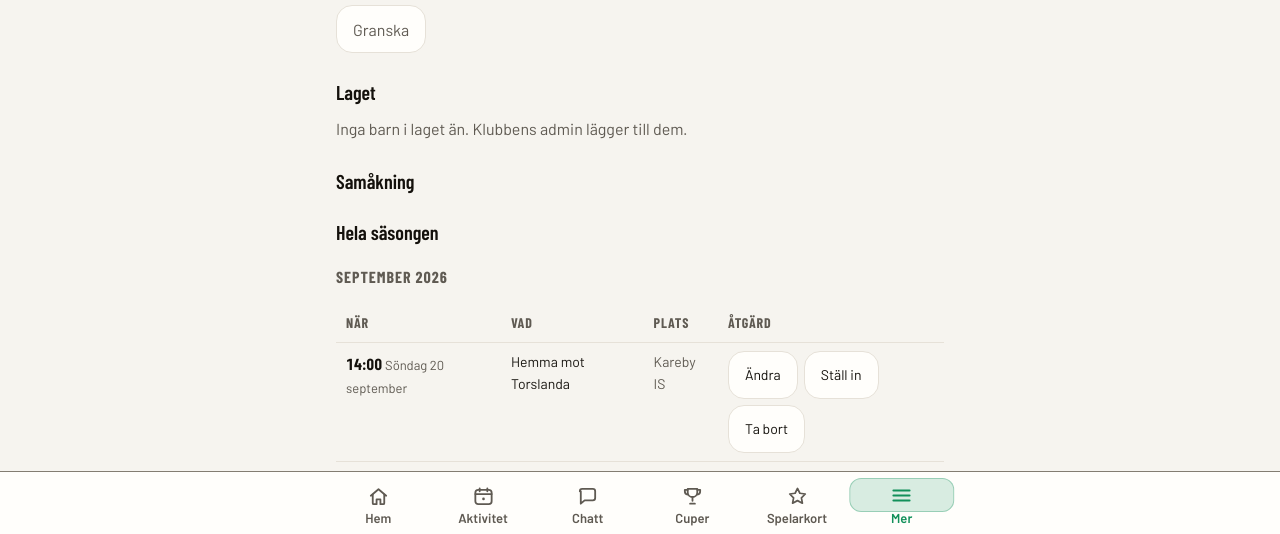
Test case: fel vid ändring visas i stället för att sväljas (#393) › notisen är en textruta med en teckenräknare som uppdateras (#609)
The image size is (1280, 534).
(page scrolled)
Click the button named "Ändra Hemma mot Torslanda". click: (763, 375)
box: [728,351,798,399]
(page scrolled)
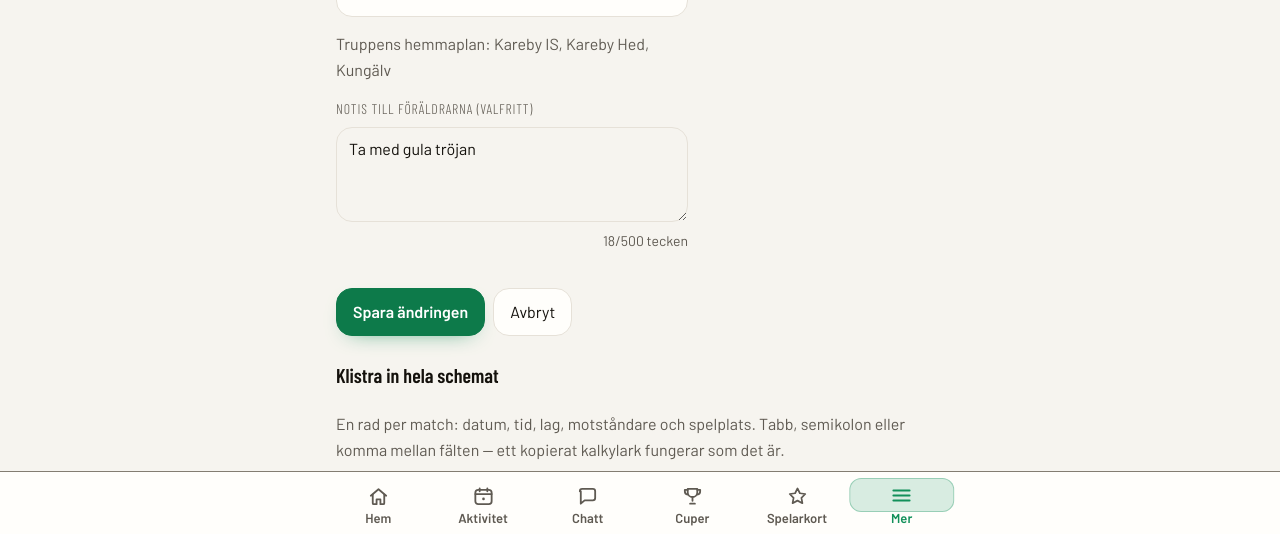
Check: the text "18/500 tecken" is shown, box [603,232,688,249]
Type "!" into the text box labelled "Notis till föräldrarna (valfritt)". click: (512, 174)
box: [336,127,688,222]
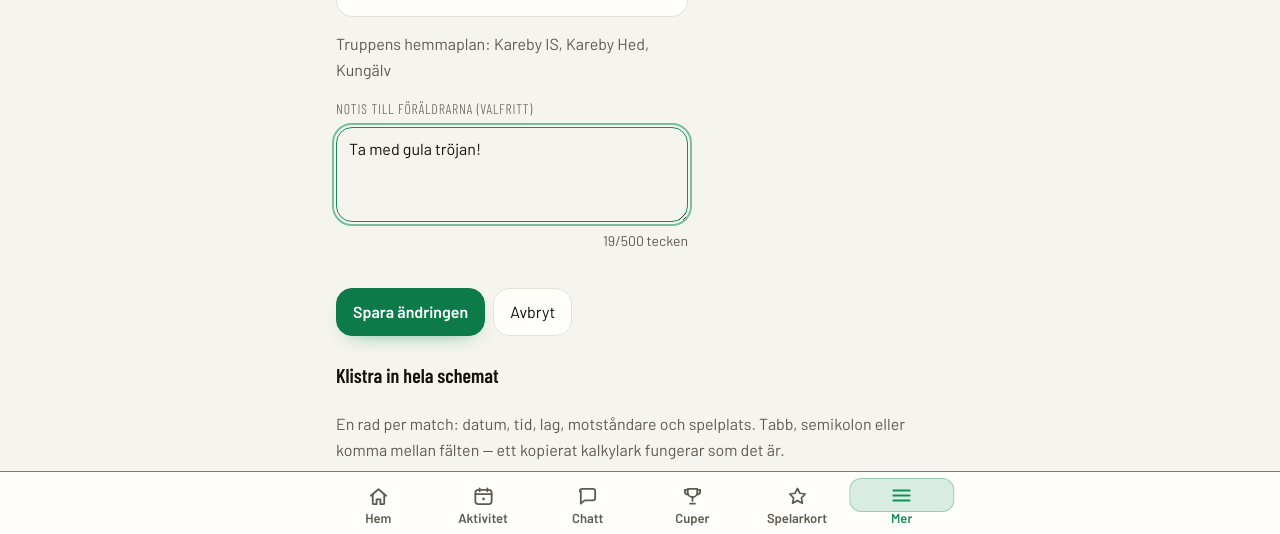
Check: the text "19/500 tecken" is shown, box [603,232,688,249]
